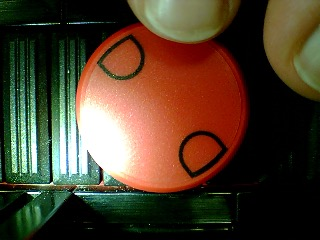MIPO2: (74, 18, 248, 193)
